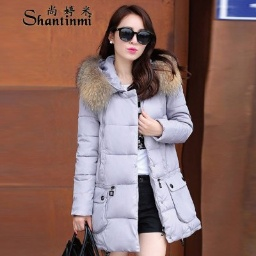face: (96, 4, 163, 81)
